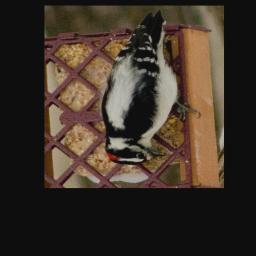Woodpecker: (102, 11, 201, 165)
